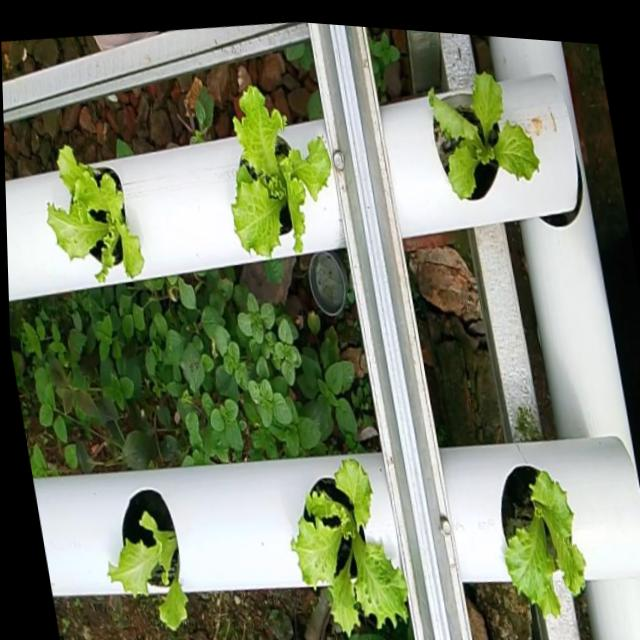Baby: (291, 459, 409, 639), (231, 86, 331, 258), (427, 71, 539, 201), (47, 145, 143, 283), (501, 465, 585, 616), (108, 488, 187, 629)
